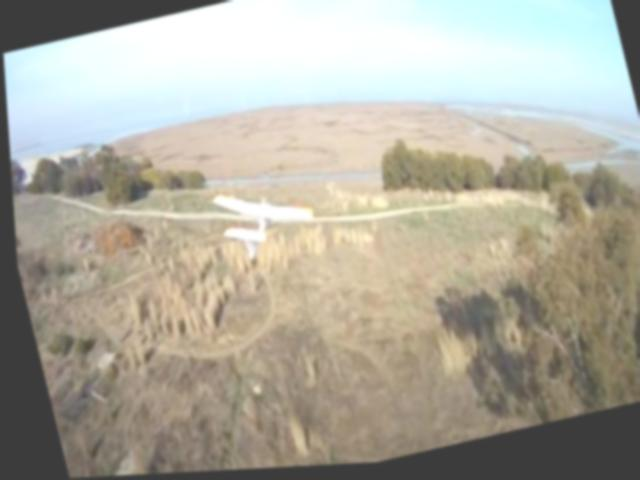uav: (199, 167, 324, 275)
